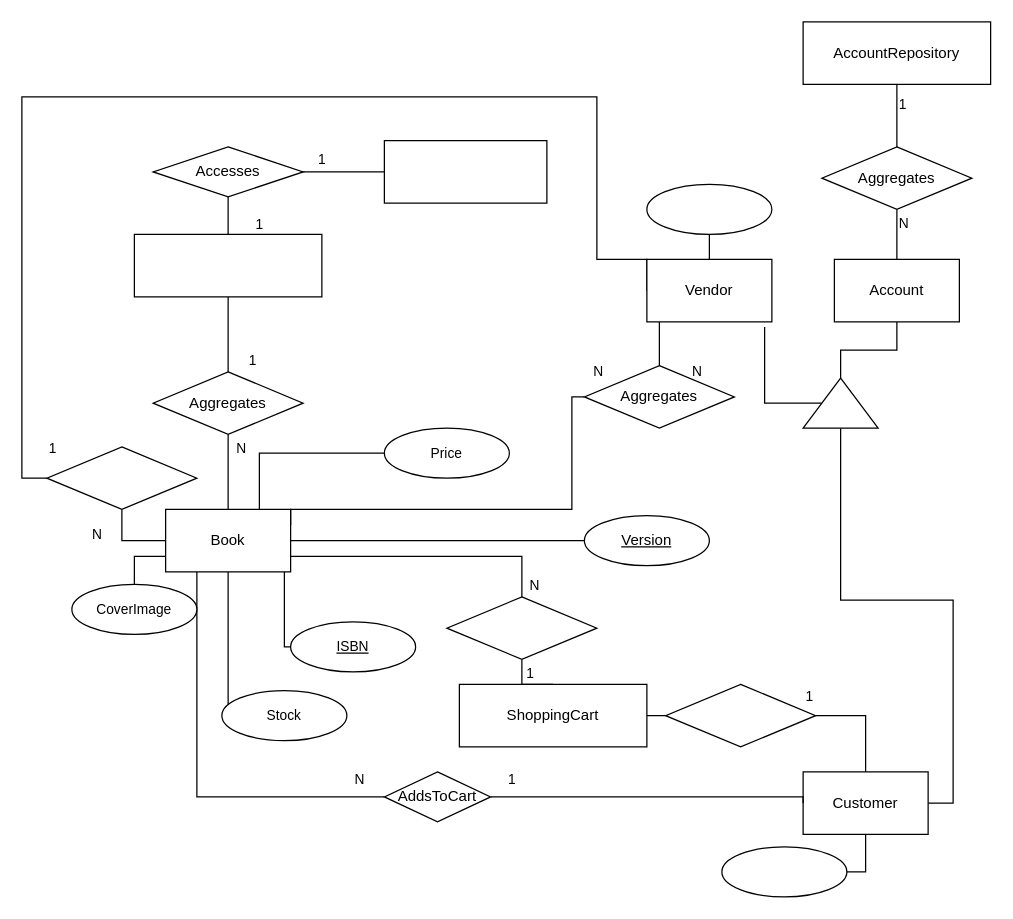
This 1013x919 diagram has some shape labels left out. Here are the shapes that lost their labels. From the top down, the centre of each, then its label:
At (465,171): "RecommendationAgent".
At (709,208): "VendorId".
At (227,265): "BookRepository".
At (840,402): "ISA".
At (121,477): "Creates".
At (521,627): "Lists".
At (740,715): "ChecksOut".
At (784,871): "CustomerId".
